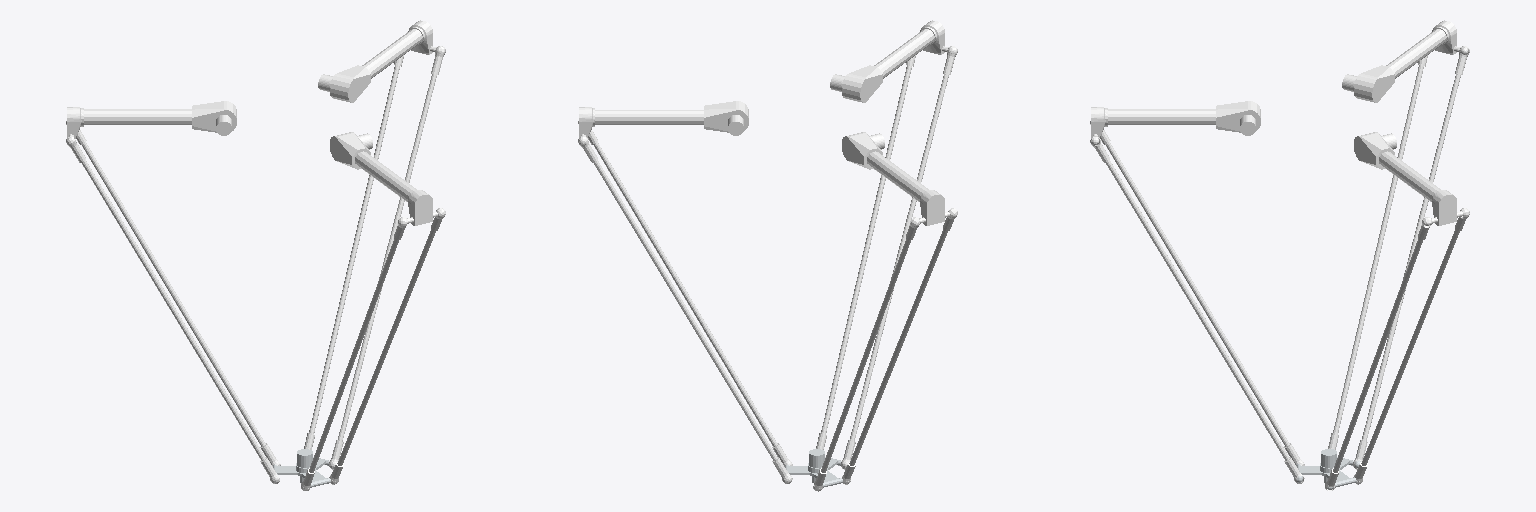
robot.urdf — delta:
<?xml version="1.0" encoding="utf-8"?>
<!-- This URDF was automatically created by SolidWorks to URDF Exporter! Originally created by [author] ([email redacted]) 
     Commit Version: 1.6.0-1-g15f4949  Build Version: 1.6.7594.29634
     For more information, please see http://wiki.ros.org/sw_urdf_exporter -->
<robot
  name="delta">
  <link
    name="base_link">
    <inertial>
      <origin
        xyz="0.380382318022096 0.659302446320337 0.53352580397799"
        rpy="0 0 0" />
      <mass
        value="156.162689770185" />
      <inertia
        ixx="7.59889681143528"
        ixy="-0.000259409545019054"
        ixz="-9.24660486503626E-05"
        iyy="10.3617884952824"
        iyz="-0.000102275137498669"
        izz="7.59824264740178" />
    </inertial>
    <visual>
      <origin
        xyz="0 0 0"
        rpy="0 0 0" />
      <geometry>
        <mesh
          filename="package://delta/meshes/base_link.STL" />
      </geometry>
      <material
        name="">
        <color
          rgba="1 1 1 1" />
      </material>
    </visual>
    <collision>
      <origin
        xyz="0 0 0"
        rpy="0 0 0" />
      <geometry>
        <mesh
          filename="package://delta/meshes/base_link.STL" />
      </geometry>
    </collision>
  </link>
  <link
    name="upper_arm1">
    <inertial>
      <origin
        xyz="0.114792252146981 0.00182152585989642 0.0495423331065886"
        rpy="0 0 0" />
      <mass
        value="0.646884412038515" />
      <inertia
        ixx="0.000166776951356192"
        ixy="-0.000187543246495443"
        ixz="-4.04262175310626E-09"
        iyy="0.00675559133337473"
        iyz="6.15021017809258E-11"
        izz="0.0067770914347623" />
    </inertial>
    <visual>
      <origin
        xyz="0 0 0"
        rpy="0 0 0" />
      <geometry>
        <mesh
          filename="package://delta/meshes/upper_arm1.STL" />
      </geometry>
      <material
        name="">
        <color
          rgba="1 1 1 1" />
      </material>
    </visual>
    <collision>
      <origin
        xyz="0 0 0"
        rpy="0 0 0" />
      <geometry>
        <mesh
          filename="package://delta/meshes/upper_arm1.STL" />
      </geometry>
    </collision>
  </link>
  <joint
    name="joint1"
    type="revolute">
    <origin
      xyz="0.33287 -0.68352 0.39876"
      rpy="-1.5708 0 -1.5708" />
    <parent
      link="base_link" />
    <child
      link="upper_arm1" />
    <axis
      xyz="0 0 1" />
    <limit
      lower="0"
      upper="3.1416"
      effort="0"
      velocity="0" />
  </joint>
  <link
    name="lower_arm1">
    <inertial>
      <origin
        xyz="-0.0385698304790184 -0.39544178438701 0.00404194034295746"
        rpy="0 0 0" />
      <mass
        value="0.254921516517185" />
      <inertia
        ixx="0.0162920286981957"
        ixy="0.000189885177234702"
        ixz="1.84031632943999E-06"
        iyy="9.64407003382144E-06"
        iyz="-8.02478576529621E-05"
        izz="0.0162956096134967" />
    </inertial>
    <visual>
      <origin
        xyz="0 0 0"
        rpy="0 0 0" />
      <geometry>
        <mesh
          filename="package://delta/meshes/lower_arm1.STL" />
      </geometry>
      <material
        name="">
        <color
          rgba="1 1 1 1" />
      </material>
    </visual>
    <collision>
      <origin
        xyz="0 0 0"
        rpy="0 0 0" />
      <geometry>
        <mesh
          filename="package://delta/meshes/lower_arm1.STL" />
      </geometry>
    </collision>
  </link>
  <joint
    name="joint_lower1"
    type="continuous">
    <origin
      xyz="0.27257 0.024629 0.0052966"
      rpy="-0.032509 1.1708 -2.6733" />
    <parent
      link="upper_arm1" />
    <child
      link="lower_arm1" />
    <axis
      xyz="0.55852 0 0.82949" />
  </joint>
  <link
    name="upper_arm2">
    <inertial>
      <origin
        xyz="0.114792221305797 -0.00182152765219995 0.184356660884915"
        rpy="0 0 0" />
      <mass
        value="0.646884127953807" />
      <inertia
        ixx="0.000166777031838411"
        ixy="0.000187543435284817"
        ixz="4.36611667888656E-09"
        iyy="0.00675559025398927"
        iyz="7.91226247660783E-11"
        izz="0.00677709036650217" />
    </inertial>
    <visual>
      <origin
        xyz="0 0 0"
        rpy="0 0 0" />
      <geometry>
        <mesh
          filename="package://delta/meshes/upper_arm2.STL" />
      </geometry>
      <material
        name="">
        <color
          rgba="1 1 1 1" />
      </material>
    </visual>
    <collision>
      <origin
        xyz="0 0 0"
        rpy="0 0 0" />
      <geometry>
        <mesh
          filename="package://delta/meshes/upper_arm2.STL" />
      </geometry>
    </collision>
  </link>
  <joint
    name="joint2"
    type="revolute">
    <origin
      xyz="0.41708 -0.2971 0.39876"
      rpy="1.5708 0 0.5236" />
    <parent
      link="base_link" />
    <child
      link="upper_arm2" />
    <axis
      xyz="0 0 1" />
    <limit
      lower="-3.1416"
      upper="0"
      effort="0"
      velocity="0" />
  </joint>
  <link
    name="lower_arm2">
    <inertial>
      <origin
        xyz="-0.10604454136627 -0.395444418379915 0.150775797854126"
        rpy="0 0 0" />
      <mass
        value="0.254921517454707" />
      <inertia
        ixx="0.0162961667441607"
        ixy="-4.65488458038641E-05"
        ixz="-1.13364148076819E-06"
        iyy="9.64408194592089E-06"
        iyz="-0.000200822093659048"
        izz="0.016291471722268" />
    </inertial>
    <visual>
      <origin
        xyz="0 0 0"
        rpy="0 0 0" />
      <geometry>
        <mesh
          filename="package://delta/meshes/lower_arm2.STL" />
      </geometry>
      <material
        name="">
        <color
          rgba="1 1 1 1" />
      </material>
    </visual>
    <collision>
      <origin
        xyz="0 0 0"
        rpy="0 0 0" />
      <geometry>
        <mesh
          filename="package://delta/meshes/lower_arm2.STL" />
      </geometry>
    </collision>
  </link>
  <joint
    name="joint_lower2"
    type="continuous">
    <origin
      xyz="0.16127 0.034687 0.31426"
      rpy="3.1286 0.22775 2.6404" />
    <parent
      link="upper_arm2" />
    <child
      link="lower_arm2" />
    <axis
      xyz="0.69905 0 -0.71508" />
  </joint>
  <link
    name="upper_arm3">
    <inertial>
      <origin
        xyz="0.114792190956305 -0.00182152531048957 -0.0251673198673808"
        rpy="0 0 0" />
      <mass
        value="0.646883970811699" />
      <inertia
        ixx="0.000166776836705842"
        ixy="0.000187543268799503"
        ixz="3.21501578698103E-09"
        iyy="0.00675558779094133"
        iyz="3.68581727496335E-11"
        izz="0.00677708810261762" />
    </inertial>
    <visual>
      <origin
        xyz="0 0 0"
        rpy="0 0 0" />
      <geometry>
        <mesh
          filename="package://delta/meshes/upper_arm3.STL" />
      </geometry>
      <material
        name="">
        <color
          rgba="1 1 1 1" />
      </material>
    </visual>
    <collision>
      <origin
        xyz="0 0 0"
        rpy="0 0 0" />
      <geometry>
        <mesh
          filename="package://delta/meshes/upper_arm3.STL" />
      </geometry>
    </collision>
  </link>
  <joint
    name="joint3"
    type="revolute">
    <origin
      xyz="0.26203 -0.43849 0.39876"
      rpy="1.5708 0 2.618" />
    <parent
      link="base_link" />
    <child
      link="upper_arm3" />
    <axis
      xyz="0 0 1" />
    <limit
      lower="-3.1416"
      upper="0"
      effort="0"
      velocity="0" />
  </joint>
  <link
    name="lower_arm3">
    <inertial>
      <origin
        xyz="0.021338383297218 -0.286588309148518 -0.0278025254514155"
        rpy="0 0 0" />
      <mass
        value="0.254921516970153" />
      <inertia
        ixx="0.0162945641029594"
        ixy="-0.000125065677357419"
        ixz="2.53738126565852E-06"
        iyy="9.6440345659286E-06"
        iyz="0.000163872021528037"
        izz="0.0162930743247615" />
    </inertial>
    <visual>
      <origin
        xyz="0 0 0"
        rpy="0 0 0" />
      <geometry>
        <mesh
          filename="package://delta/meshes/lower_arm3.STL" />
      </geometry>
      <material
        name="">
        <color
          rgba="1 1 1 1" />
      </material>
    </visual>
    <collision>
      <origin
        xyz="0 0 0"
        rpy="0 0 0" />
      <geometry>
        <mesh
          filename="package://delta/meshes/lower_arm3.STL" />
      </geometry>
    </collision>
  </link>
  <joint
    name="joint_lower3"
    type="continuous">
    <origin
      xyz="0.230483769451967 -0.125613066735207 0.0154970866079977"
      rpy="0.0159234215285503 0.651825739186271 -0.488586704778935" />
    <parent
      link="upper_arm3" />
    <child
      link="lower_arm3" />
    <axis
      xyz="0 1 0" />
  </joint>
  <link
    name="target">
    <inertial>
      <origin
        xyz="0 0.00734510079557033 2.69633426697169E-10"
        rpy="0 0 0" />
      <mass
        value="0.207397112440021" />
      <inertia
        ixx="0.000172568881403432"
        ixy="7.24231096618009E-20"
        ixz="4.01870824578667E-19"
        iyy="0.000277154102529209"
        iyz="3.89811468943009E-13"
        izz="0.00017256884108883" />
    </inertial>
    <visual>
      <origin
        xyz="0 0 0"
        rpy="0 0 0" />
      <geometry>
        <mesh
          filename="package://delta/meshes/target.STL" />
      </geometry>
      <material
        name="">
        <color
          rgba="0.898039215686275 0.917647058823529 0.929411764705882 1" />
      </material>
    </visual>
    <collision>
      <origin
        xyz="0 0 0"
        rpy="0 0 0" />
      <geometry>
        <mesh
          filename="package://delta/meshes/target.STL" />
      </geometry>
    </collision>
  </link>
  <joint
    name="joint_targe"
    type="fixed">
    <origin
      xyz="0.38037 -0.53352 -0.32514"
      rpy="1.5708 0 -3.1416" />
    <parent
      link="base_link" />
    <child
      link="target" />
    <axis
      xyz="0 0 0" />
  </joint>
</robot>

--- Facts derived from the render (not from the file) ---
The picture shows the robot from 3 angles, left to right: view 1: azimuth 30°, elevation 25°; view 2: azimuth 150°, elevation 25°; view 3: azimuth 270°, elevation 25°; orthographic projection.
Model delta with 8 links and 7 joints (3 revolute, 3 continuous, 1 fixed), rooted at base_link, posed every joint at zero.
Visible links, largest first — view 1: lower_arm3, lower_arm2, upper_arm3, lower_arm1, upper_arm1, upper_arm2, target; view 2: lower_arm2, lower_arm1, lower_arm3, upper_arm2, upper_arm3, upper_arm1, target; view 3: lower_arm1, lower_arm3, upper_arm1, lower_arm2, upper_arm2, upper_arm3, target.
Link boxes in pixels (left/top/right/bottom): lower_arm3: left=66, top=121, right=280, bottom=483; lower_arm2: left=304, top=37, right=445, bottom=469; upper_arm3: left=67, top=101, right=236, bottom=138; lower_arm1: left=301, top=208, right=445, bottom=490; upper_arm1: left=330, top=132, right=437, bottom=225; upper_arm2: left=318, top=20, right=436, bottom=102; target: left=273, top=449, right=330, bottom=487; lower_arm2: left=578, top=121, right=792, bottom=483; lower_arm1: left=816, top=46, right=957, bottom=469; lower_arm3: left=813, top=208, right=957, bottom=491; upper_arm2: left=579, top=101, right=748, bottom=137; upper_arm3: left=842, top=132, right=949, bottom=225; upper_arm1: left=830, top=20, right=948, bottom=102; target: left=785, top=449, right=842, bottom=487; lower_arm1: left=1090, top=121, right=1304, bottom=483; lower_arm3: left=1328, top=46, right=1469, bottom=469; upper_arm1: left=1091, top=101, right=1260, bottom=144; lower_arm2: left=1325, top=208, right=1469, bottom=490; upper_arm2: left=1354, top=132, right=1463, bottom=225; upper_arm3: left=1342, top=20, right=1468, bottom=102; target: left=1295, top=449, right=1360, bottom=489.
Bounding box of the posed robot: 0.8086 × 0.7033 × 0.7739 m (x, y, z).
Meshes: 8 distinct files referenced, 7 mesh visuals loaded (7 binary STL); not drawn: 1 (reference not matched to a file when rendering).